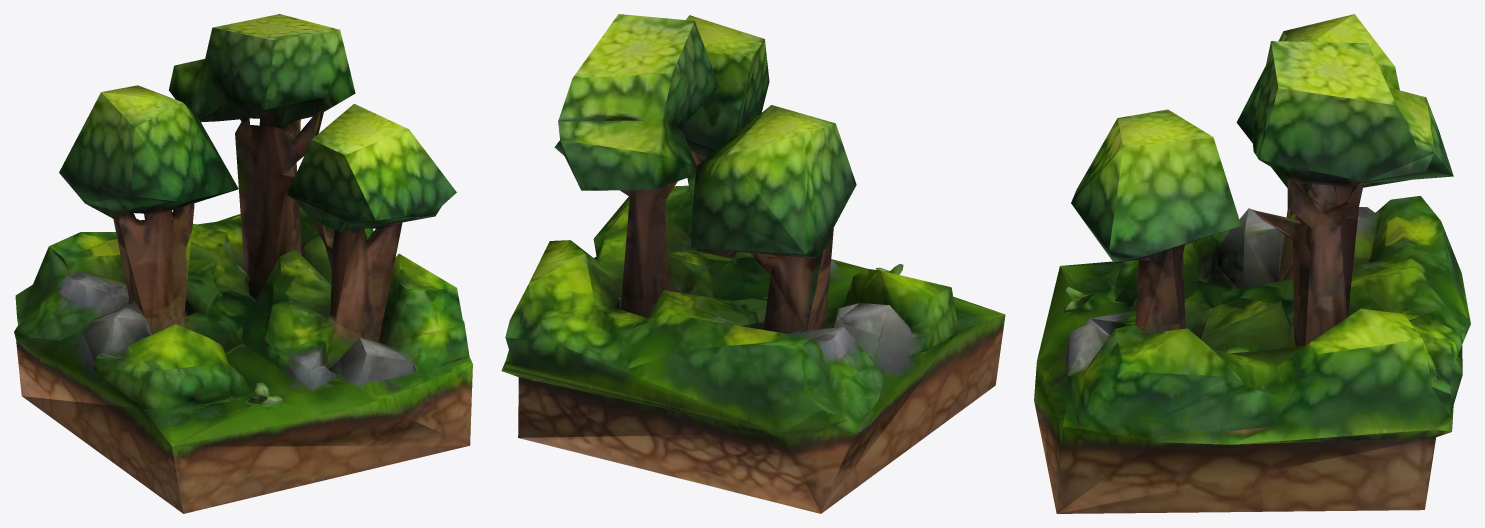
File: veg_forest_tile.glb
3 renders of one model, left to right at view 1: azimuth 30°, elevation 25°; view 2: azimuth 150°, elevation 25°; view 3: azimuth 270°, elevation 25°, orthographic. The views are drawn at different scales.
Visible parts, largest first — view 1: Forest tile; view 2: Forest tile; view 3: Forest tile.
Boxes of the visible parts, left/top/right/bottom form: Forest tile: left=14, top=14, right=472, bottom=513; Forest tile: left=501, top=14, right=1005, bottom=513; Forest tile: left=1034, top=14, right=1470, bottom=513.
Bounding box in the file's own units: 1.72 × 1.8 × 1.71.
1 material, 1 textured.
